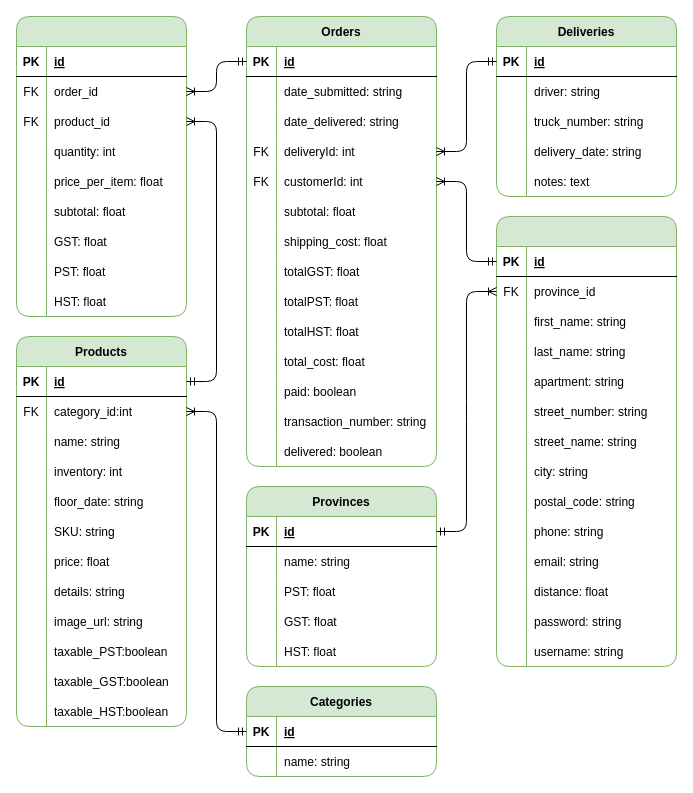
The diagram is 693 pixels wide and 793 high, and some of its shapes have lost their labels. The box of each missing label's shape, as (x1, y1, x2, y2) in pixels:
Customers: (496, 216, 676, 666)
OrderProducts: (16, 16, 186, 316)
